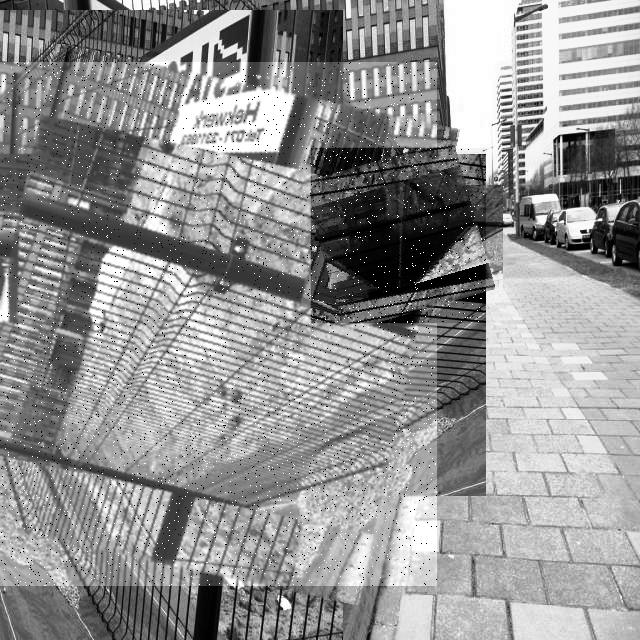fences: (0, 62, 437, 586), (311, 148, 486, 323)
